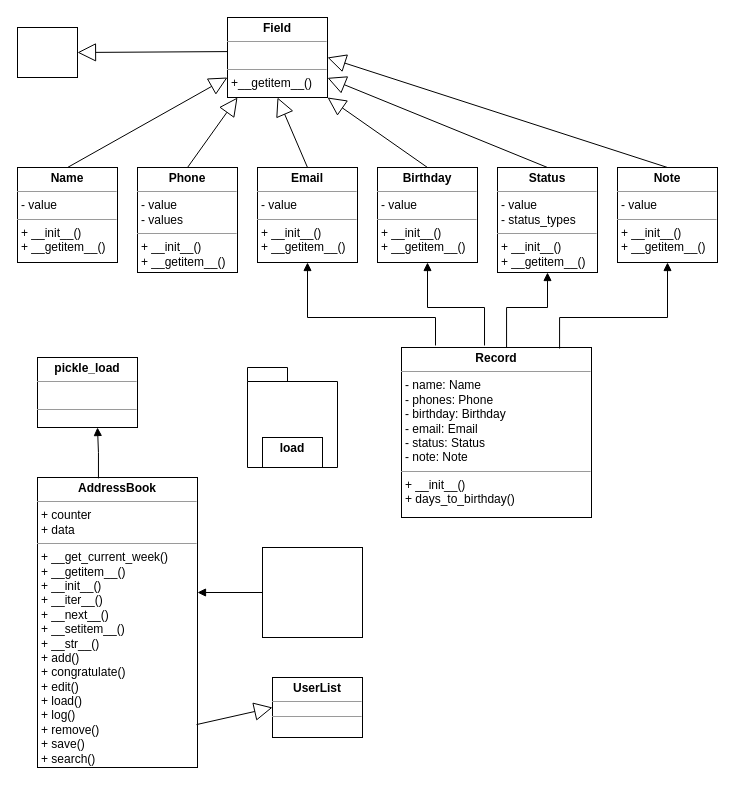
The diagram is 735 pixels wide and 785 high, and some of its shapes have lost their labels. Here are the shapes that lost their labels. From the top down, the box of each, then its label:
(16, 26, 78, 78): ABC
(246, 366, 338, 468): pickle
(262, 546, 362, 638): Bot - book + __init__() + handle()
